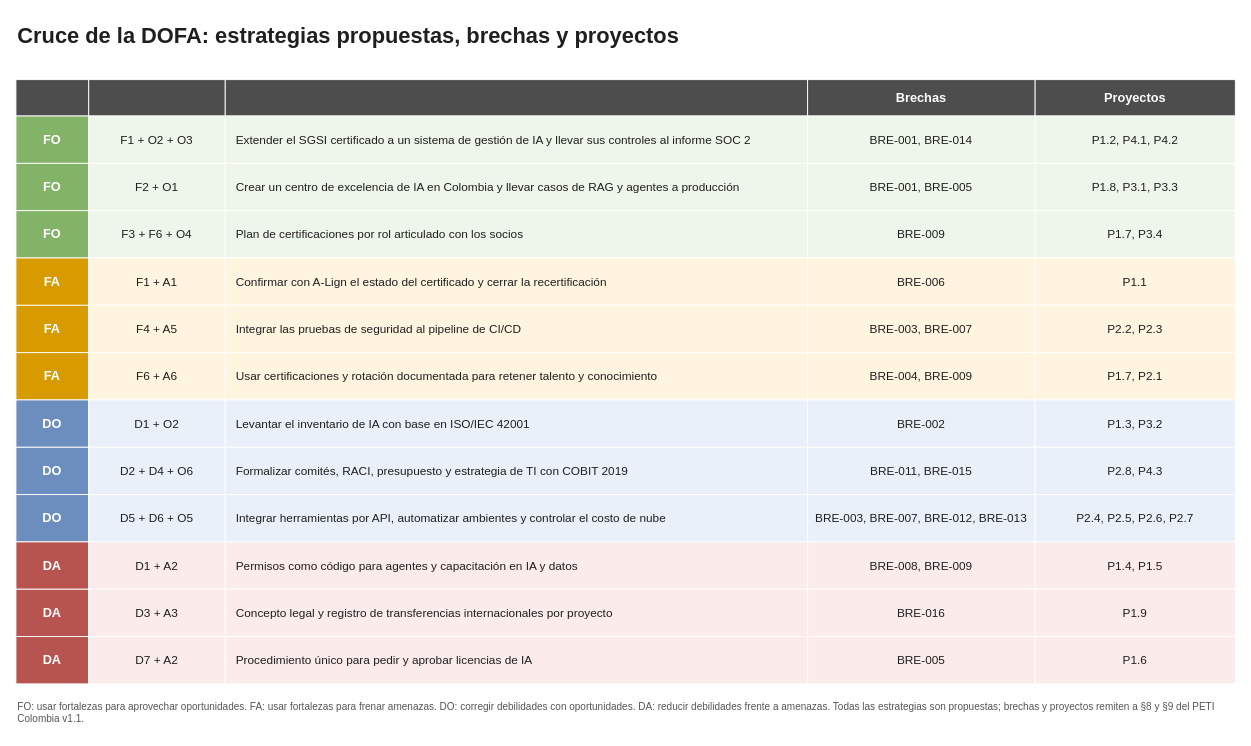
This 1251x746 diagram has some shape labels left out. Here are the shapes that lost their labels. From the top down, the box of each, then its label:
(15, 79, 89, 116): Tipo
(88, 79, 225, 116): Cruce
(224, 79, 808, 116): Estrategia propuesta
